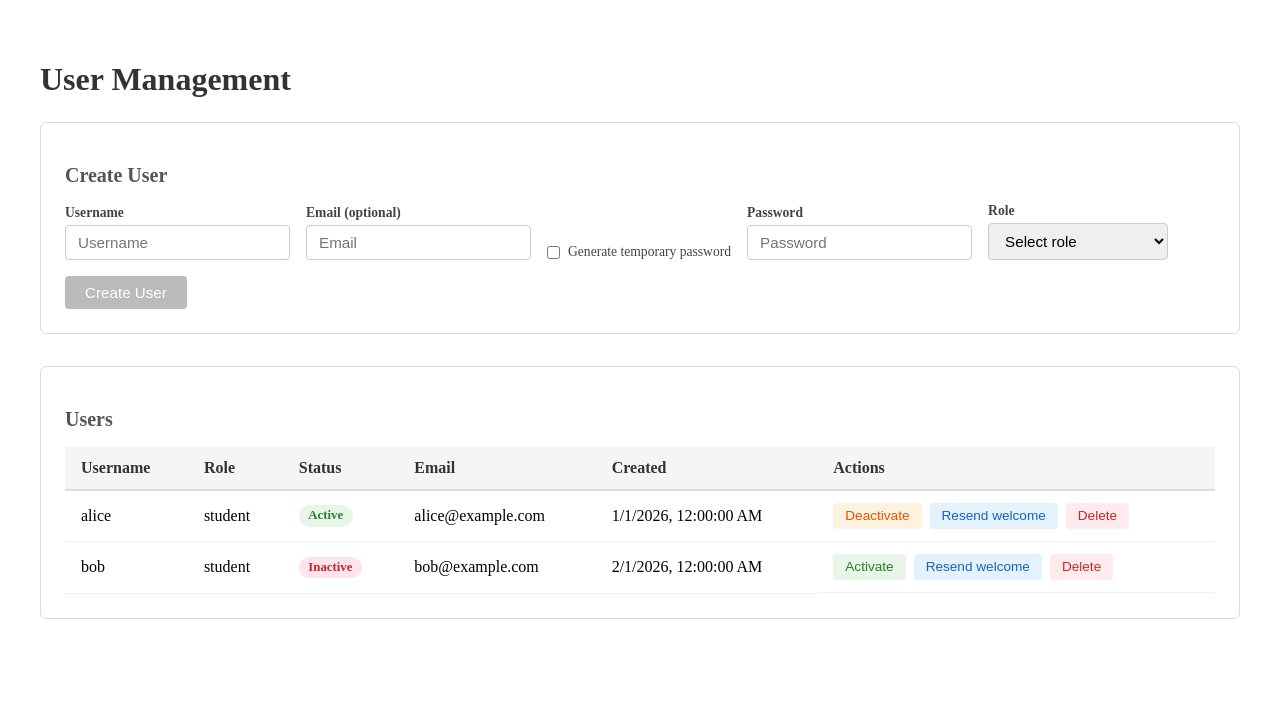
Test case: UserManagementView › delete success removes user from table
Check: the number of rows with class "user-row" is 2, box [65,490,1215,542]; [65,542,1215,593]
Click the button with class "delete-btn" in the row of "alice@example.com" at (1097, 516), box [1066,503,1129,529]
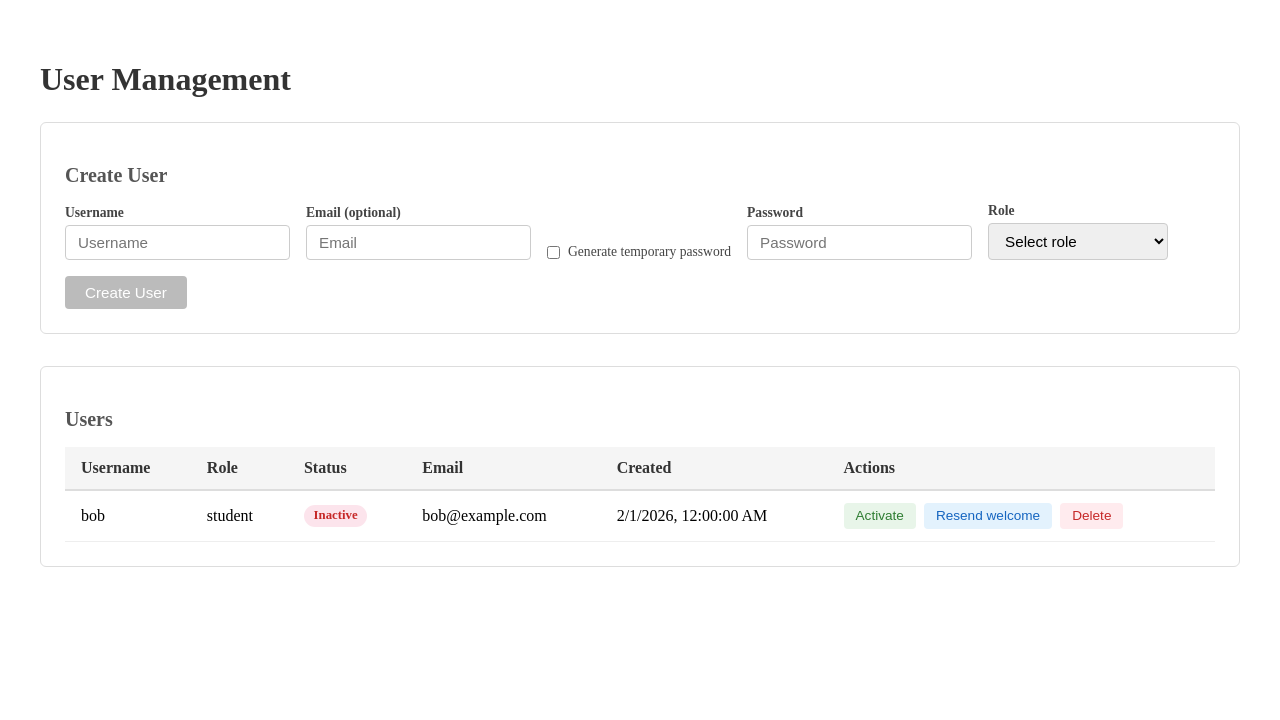
Check: the row with class "user-row" shows "bob", box [81,507,105,524]
Check: the number of rows with class "user-row" is 1, box [65,490,1215,542]
